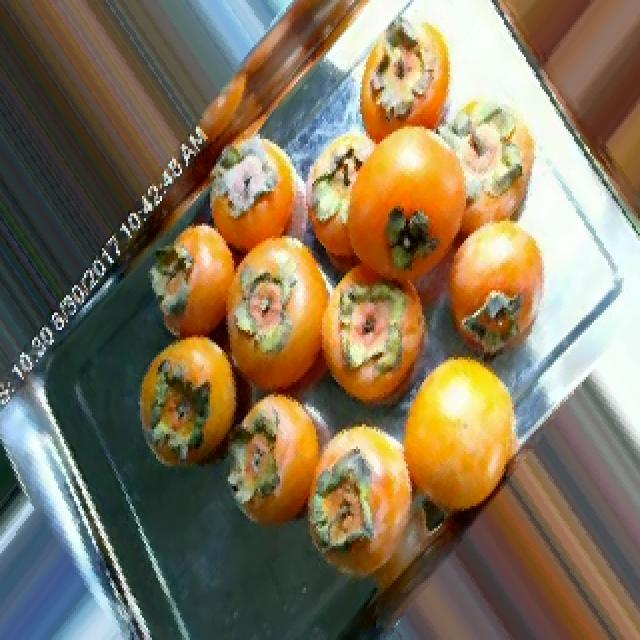Fruit: (386, 332, 516, 546), (476, 0, 640, 151), (84, 0, 252, 144), (214, 372, 340, 546), (0, 409, 38, 538)
